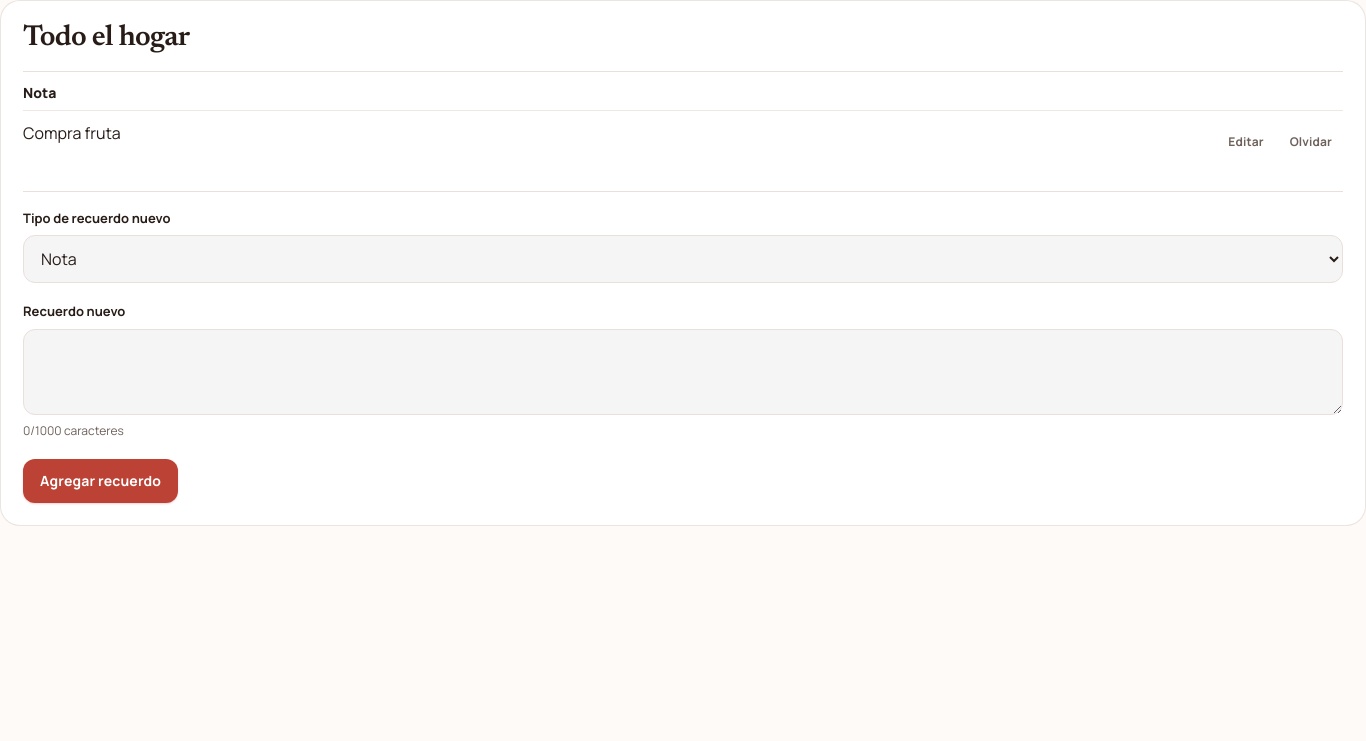
Scenario: MemoryCard › announces a gone-record response instead of showing a successful save
Click the button with aria-label "Editar recuerdo:".
click(1246, 143)  # box [1217, 121, 1275, 165]
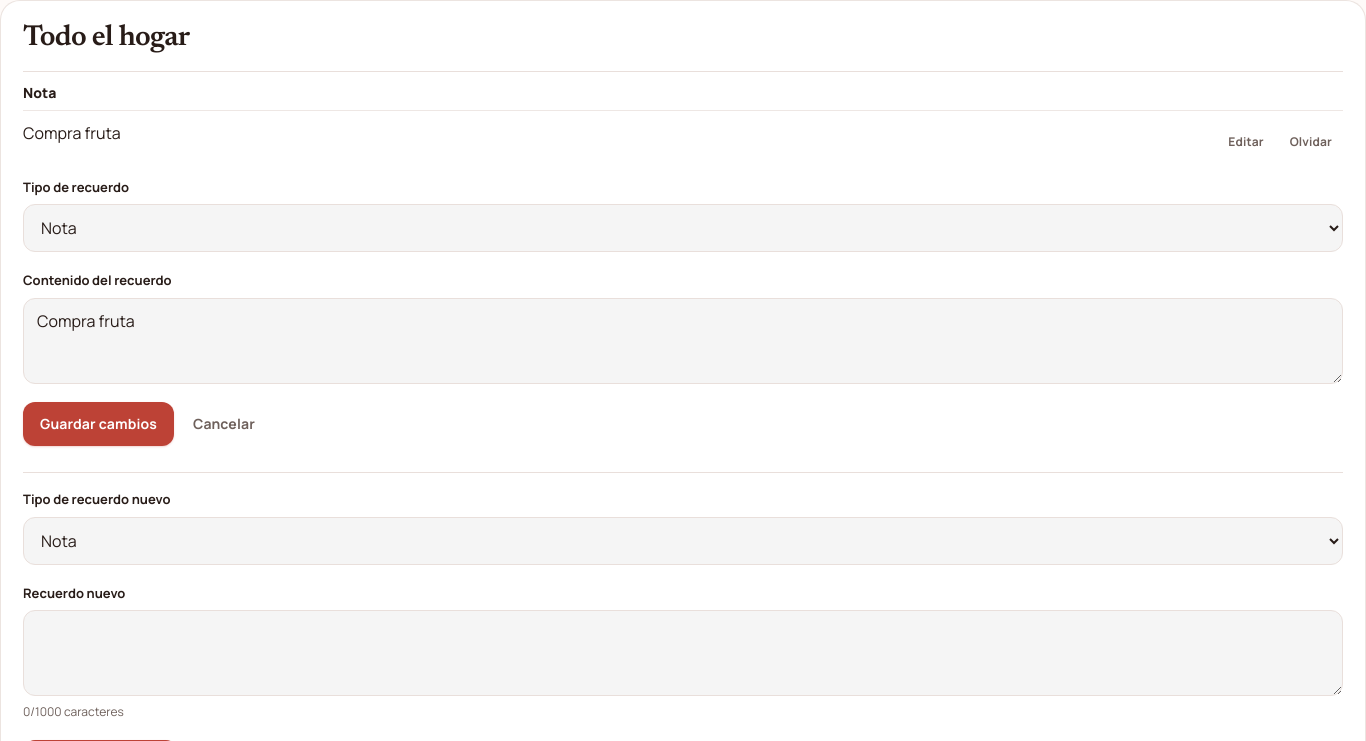
Replace the text in the text box labelled "Contenido del recuerdo" with "Compra verduras" at (683, 341), box [23, 298, 1343, 384]
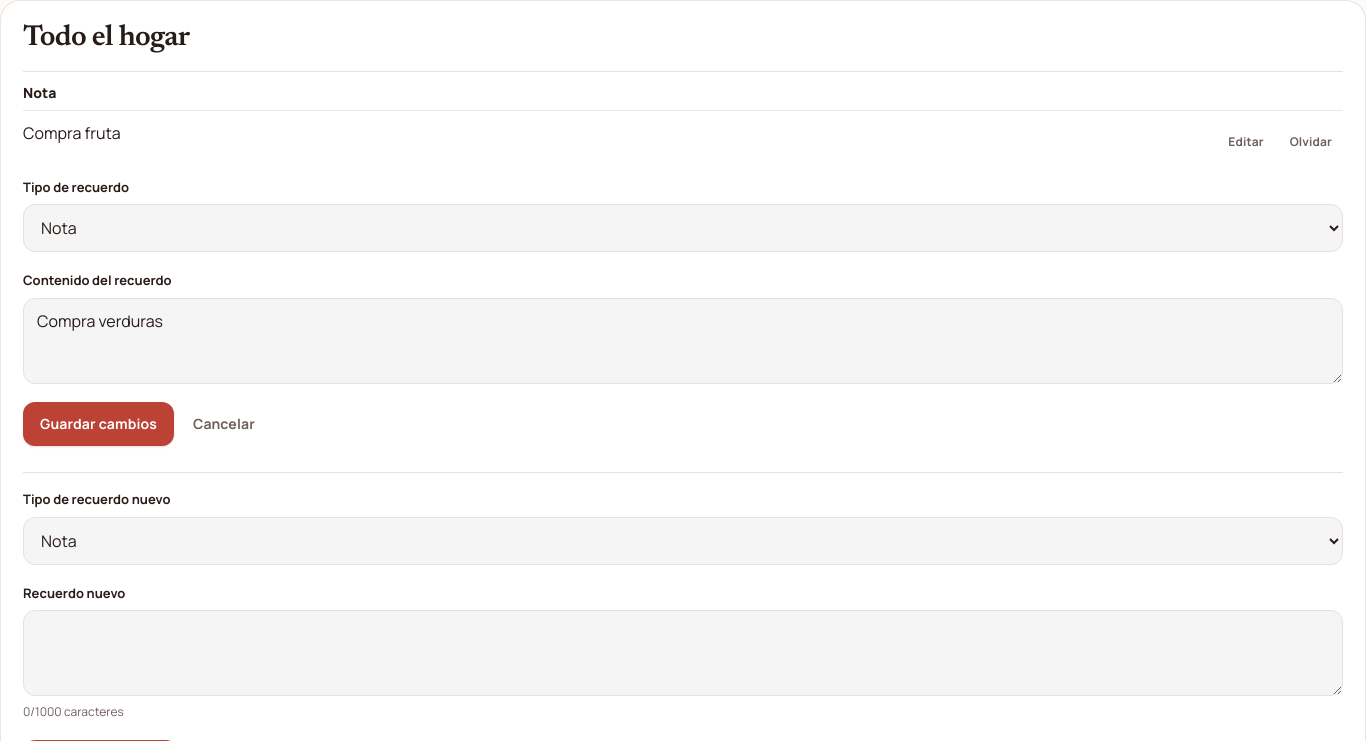
Click the button "Guardar cambios".
click(98, 424)  # box [23, 402, 174, 446]
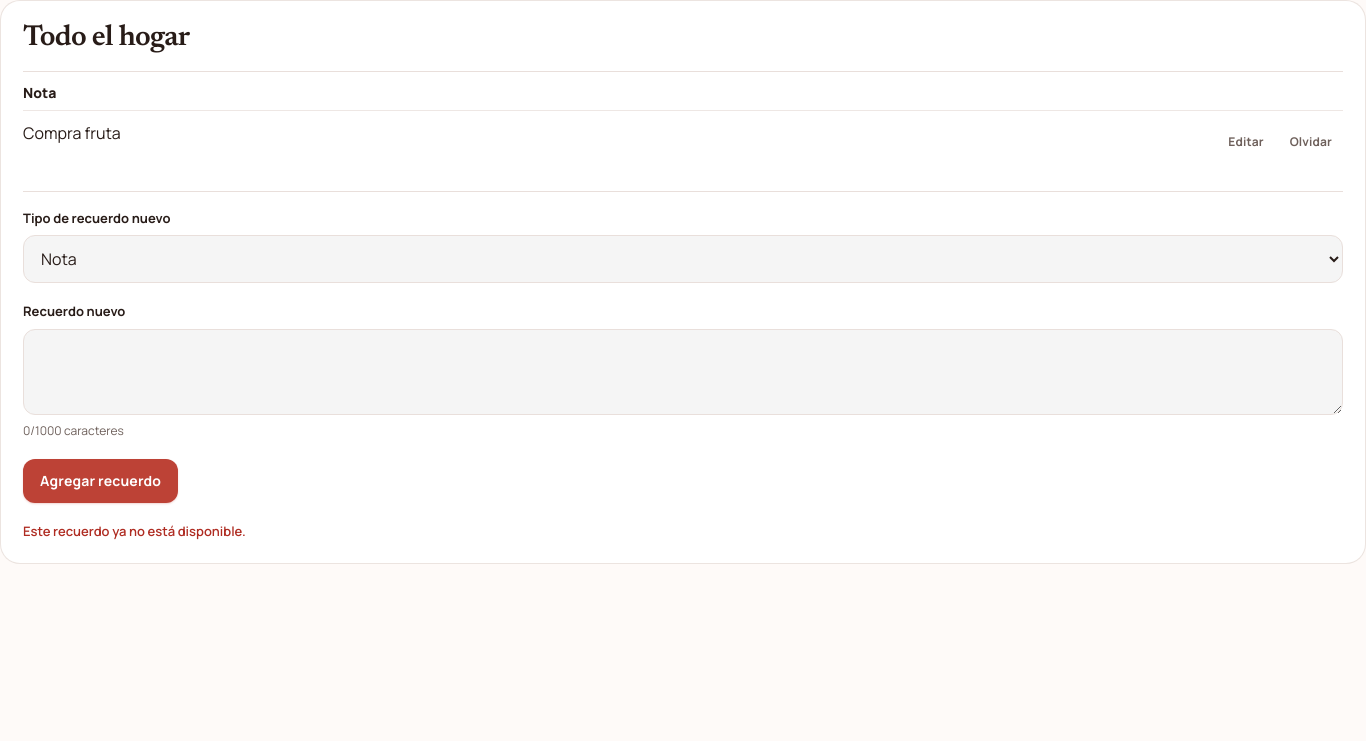
Result: the message reads "Este recuerdo ya no está disponible." at [23, 522, 246, 540]
